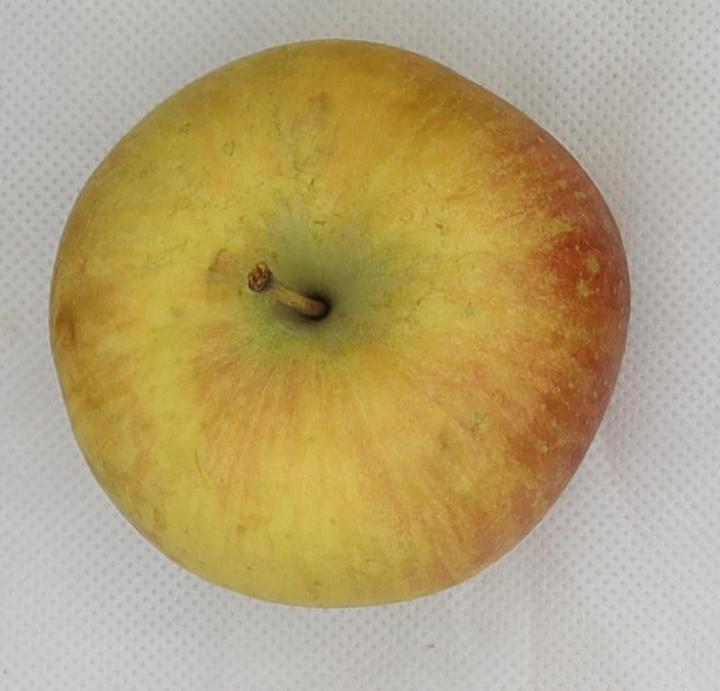apple: (50, 40, 629, 606)
